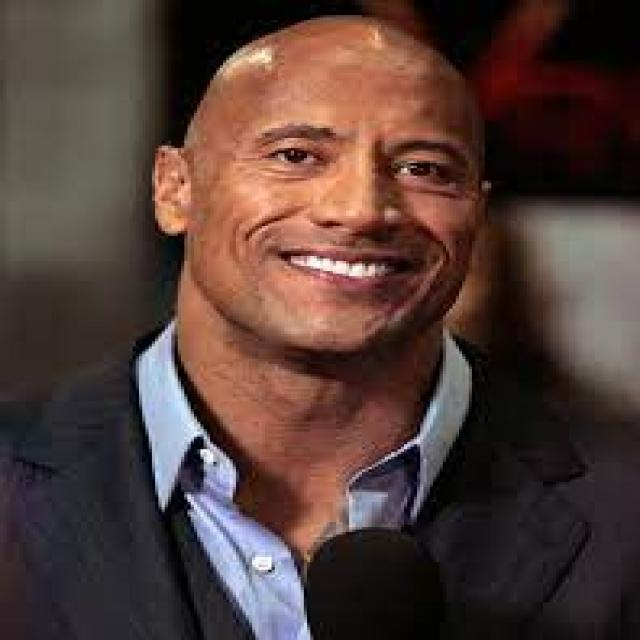Nonhelmet: (137, 0, 511, 383)
